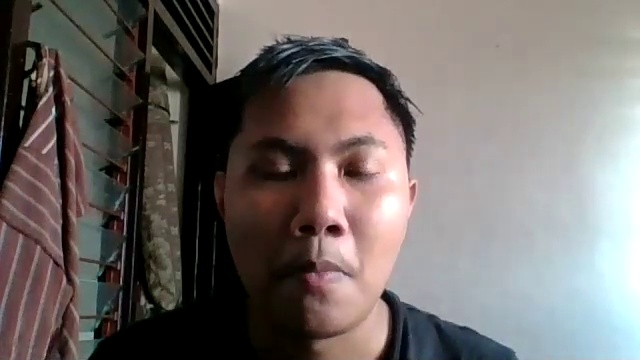Distracted: (201, 86, 423, 336)
